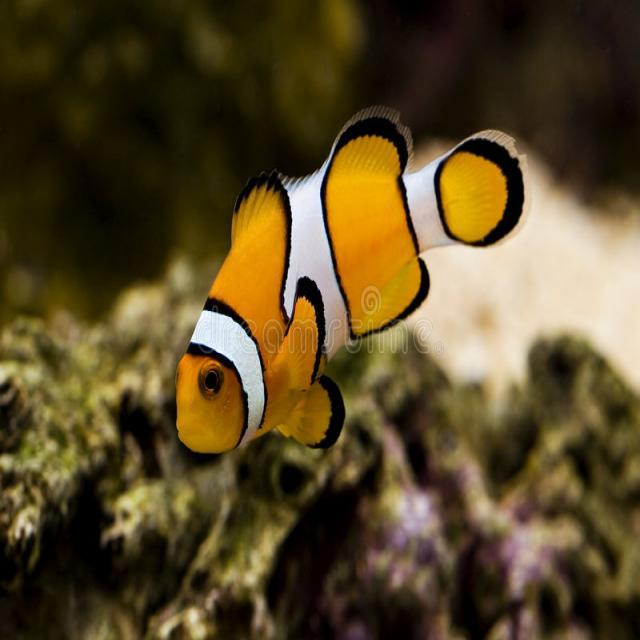ClownFish: (175, 109, 536, 452)
